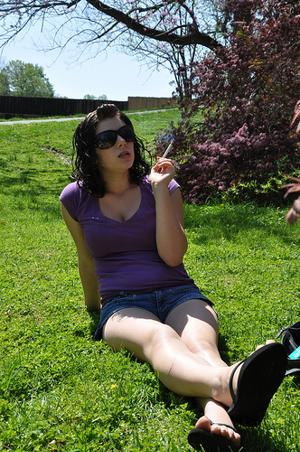person: (58, 101, 288, 452)
